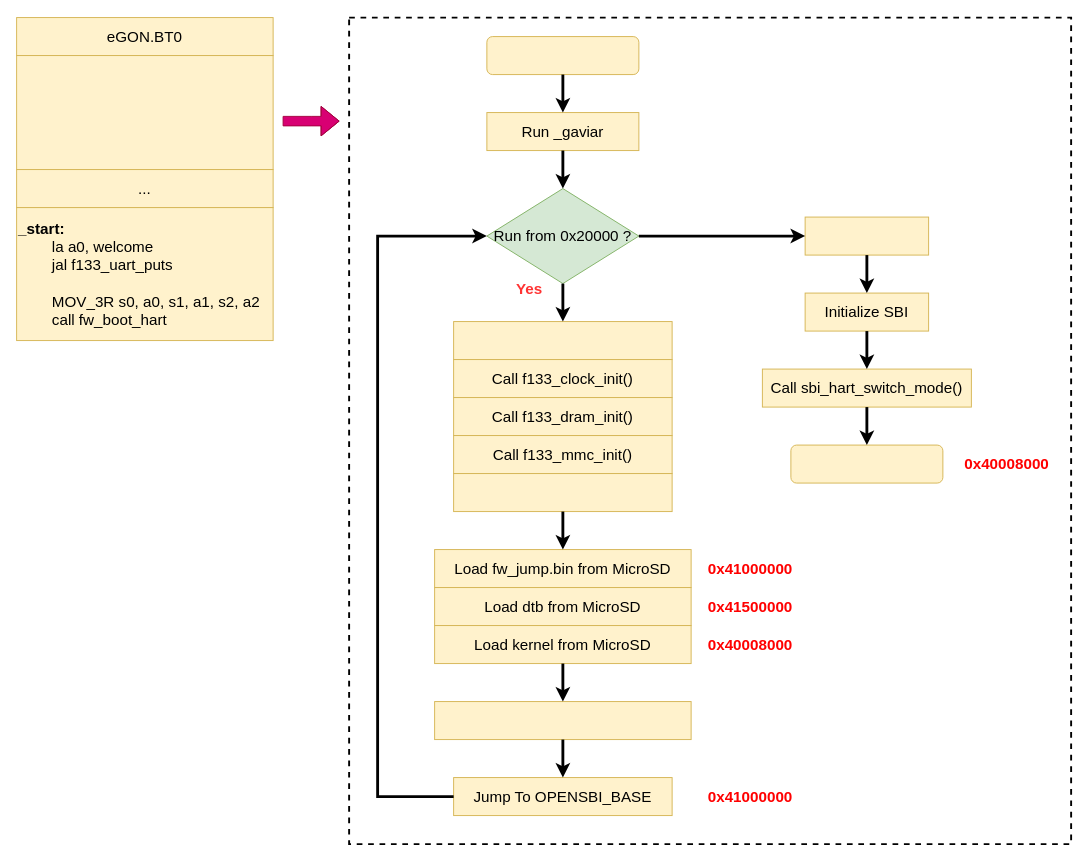
This 1089x861 diagram has some shape labels left out. The box of each missing label's shape, as (x1, y1, x2, y2) in pixels:
_gaviar: li a0, 0x20000 lw a1, 0(a0) li a2, F133_TAG beq a1, a2, _start: (16, 55, 273, 170)
Call f133_mmc_reload(): (453, 473, 672, 512)
Call f133_uart_init(): (453, 321, 672, 360)
Display Boot Message: (434, 701, 691, 740)
Jump To Kernel: (790, 444, 943, 483)
Power On: (486, 36, 639, 75)
Run _start: (804, 216, 929, 255)
